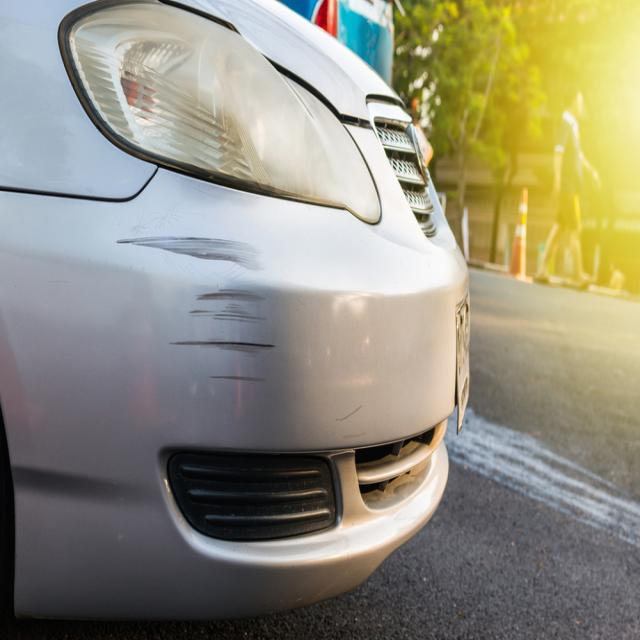scratch: (114, 231, 277, 394)
